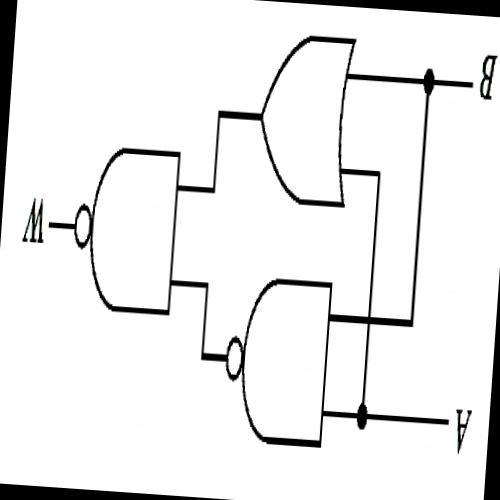nand: (214, 260, 339, 461), (63, 127, 187, 326)
or: (248, 18, 360, 219)
